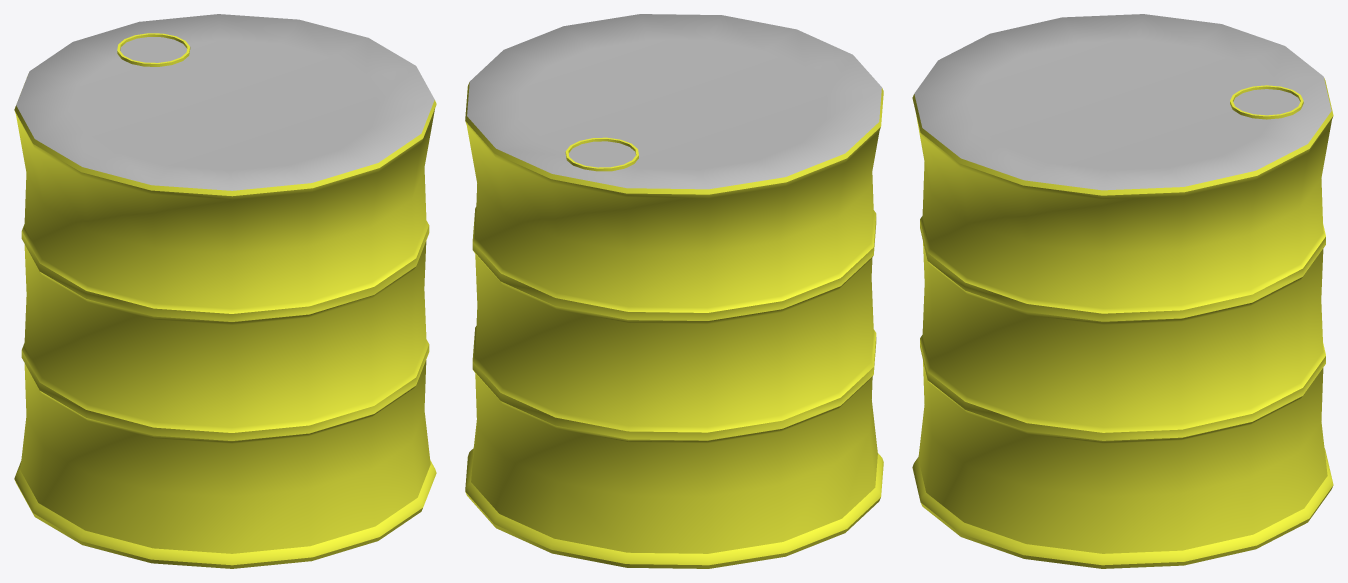
Rendered from Props_OilTank_02.fbx.
3 views of the same model, side by side, from view 1: azimuth 30°, elevation 25°; view 2: azimuth 150°, elevation 25°; view 3: azimuth 270°, elevation 25° (orthographic).
Visible parts, largest first — view 1: Props_OilTank_02; view 2: Props_OilTank_02; view 3: Props_OilTank_02.
Boxes of the visible parts, bbox=[...] form: Props_OilTank_02: bbox=[14, 14, 436, 568]; Props_OilTank_02: bbox=[465, 14, 883, 568]; Props_OilTank_02: bbox=[912, 14, 1333, 568].
Size of the model in its own units: 200 by 200 by 200.
